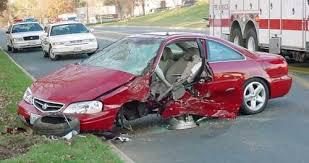Front-Windscreen-Damage: (97, 38, 159, 70)
bonnet-dent: (38, 63, 120, 97)
fender-dent: (101, 77, 150, 103)
front-bumper-dent: (18, 108, 96, 133)
